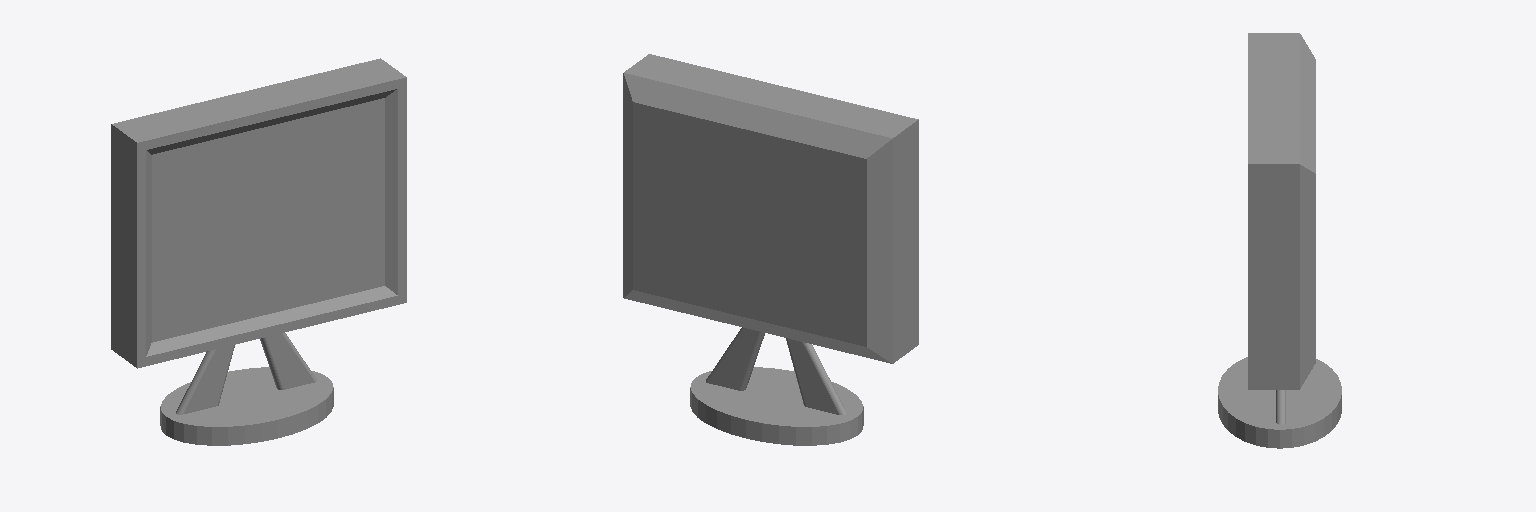
Rendered from tft.obj.
3 renders of one model, left to right at view 1: azimuth 30°, elevation 25°; view 2: azimuth 150°, elevation 25°; view 3: azimuth 270°, elevation 25°, orthographic.
Parts seen in each view (by area): view 1: Cube, Cube.002; view 2: Cube, Cube.002; view 3: Cube, Cube.002.
Part boxes in pixels (x1,y1,x2,y2): Cube: (111,58,406,368); Cube.002: (160,333,333,445); Cube: (623,54,918,363); Cube.002: (690,327,863,445); Cube: (1248,33,1315,389); Cube.002: (1218,357,1341,448).
Size of the model in its own units: 3 by 3.35 by 1.2.